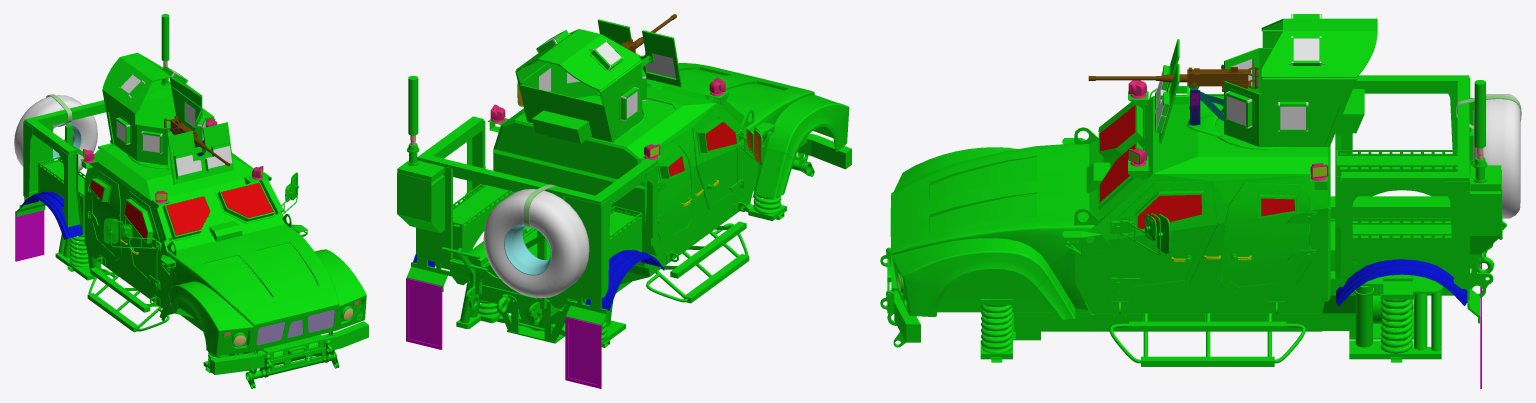
Rendered from Vehicle FINAL.fbx.
The picture shows the model from 3 angles, left to right: view 1: azimuth 30°, elevation 25°; view 2: azimuth 150°, elevation 25°; view 3: azimuth 270°, elevation 25°; orthographic projection. The views are drawn at different scales.
Parts seen in each view (by area): view 1: Vehicle, Spare Tire_low, Glass, Machine Gun; view 2: Vehicle, Spare Tire_low, Glass, Machine Gun; view 3: Vehicle, Spare Tire_low, Machine Gun, Glass.
Boxes of the visible parts, x1=… form: Vehicle: x1=15, y1=14, x2=368, y2=388; Spare Tire_low: x1=14, y1=95, x2=97, y2=170; Glass: x1=116, y1=66, x2=232, y2=177; Machine Gun: x1=164, y1=116, x2=230, y2=166; Vehicle: x1=397, y1=19, x2=851, y2=388; Spare Tire_low: x1=483, y1=189, x2=589, y2=298; Glass: x1=536, y1=30, x2=675, y2=121; Machine Gun: x1=621, y1=14, x2=676, y2=66; Vehicle: x1=880, y1=14, x2=1521, y2=388; Spare Tire_low: x1=1473, y1=94, x2=1520, y2=218; Machine Gun: x1=1088, y1=64, x2=1258, y2=125; Glass: x1=1156, y1=14, x2=1321, y2=132.
Size of the model in its own units: 332 by 350 by 656.
